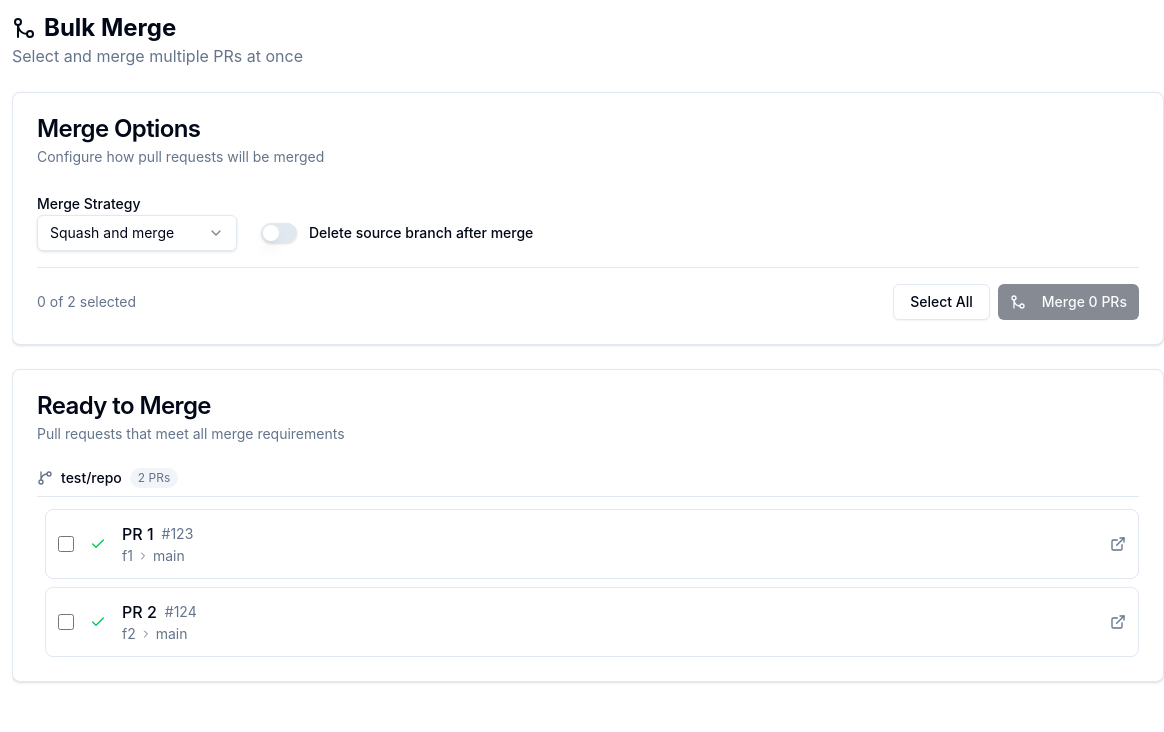
Merge › PR Selection › selects all PRs when select all is clicked
This screenshot has width=1164, height=732.
Expected: the text "PR 1" is shown, [122,522,154,546]
What coordinates should you click on to do the following:
click the button "Select All"
I would click on:
 (942, 302)
Its box is [893,284,990,320].
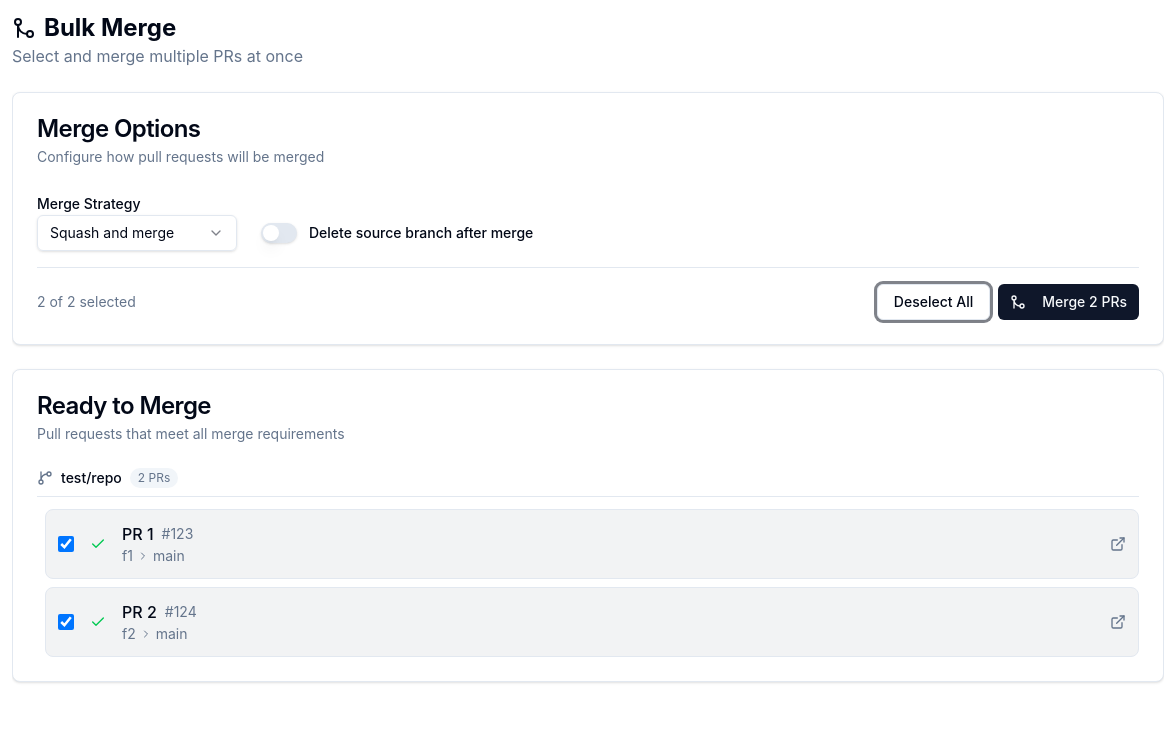
Now the button "Merge 2 PRs" is shown, box [998,284,1139,320]
